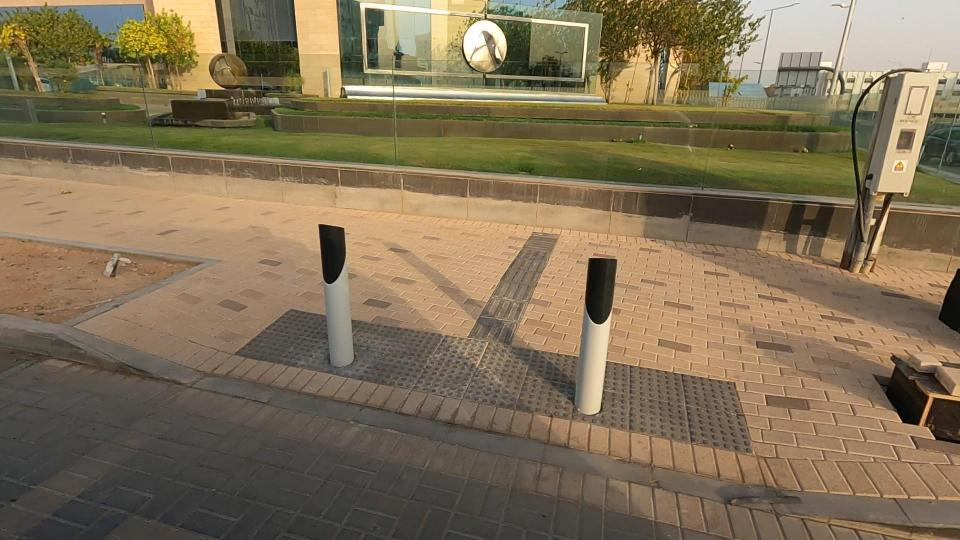GARBAGE: (68, 217, 165, 314)
